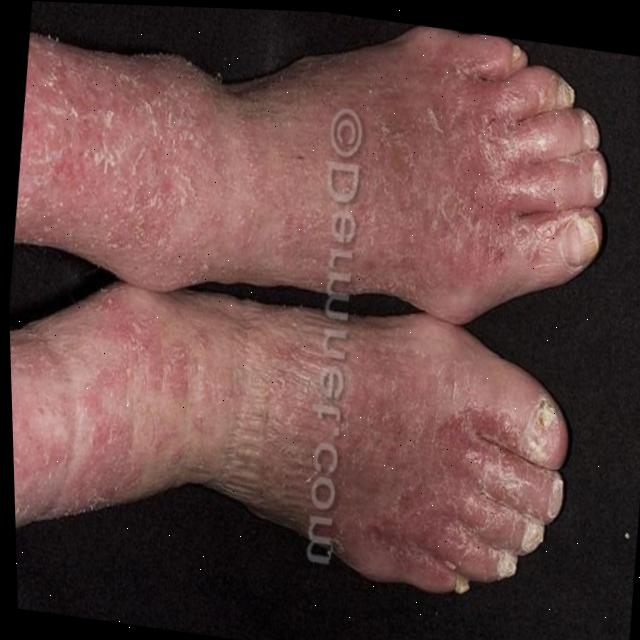Eczema: (1, 21, 581, 595)
